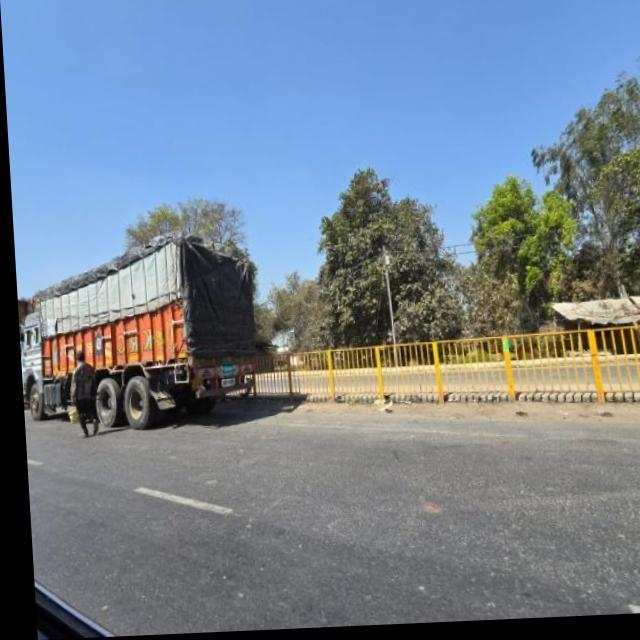covered: (13, 252, 266, 430)
